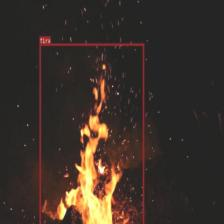fire: (39, 42, 143, 224)
